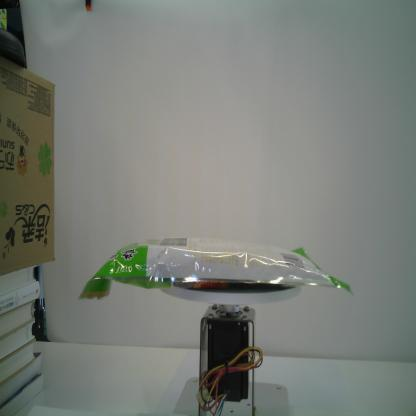Dried Food: (76, 234, 357, 303)
